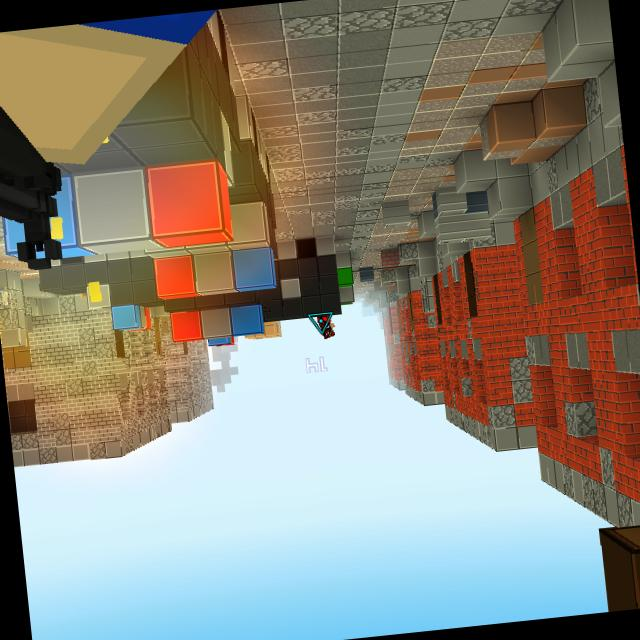enemy: (316, 314, 337, 340)
